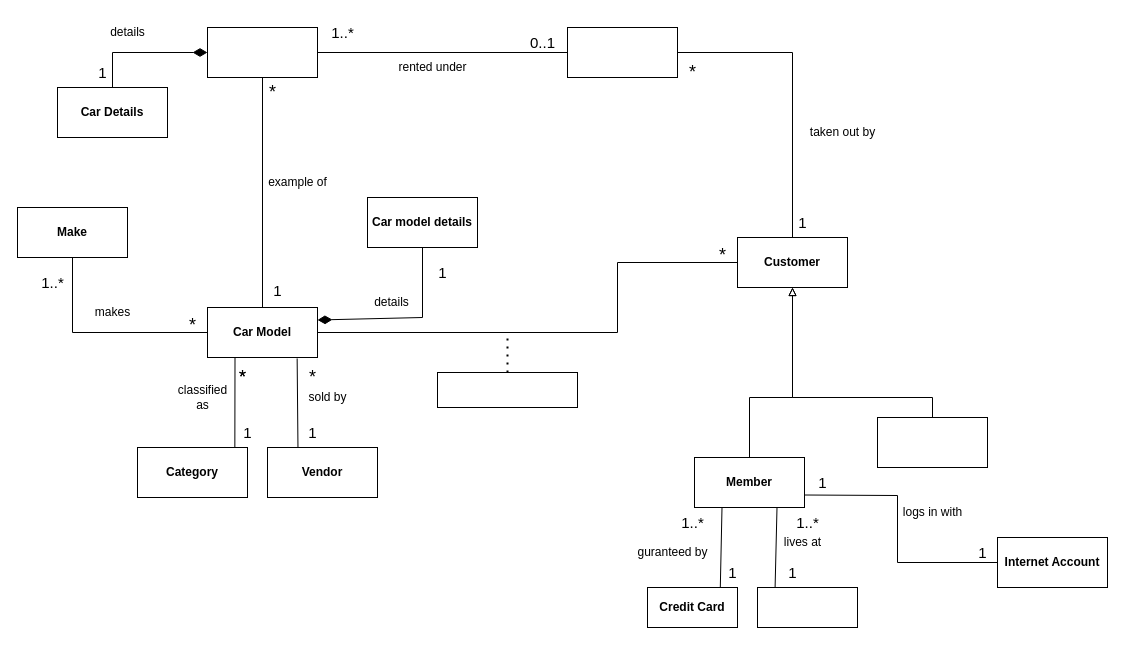
Some shapes in this 1125 by 653 pixel diagram are drawn without their labels. Each missing label, with the box of its shape:
Address: (756, 586, 858, 628)
Car: (206, 26, 318, 78)
NonMember: (876, 416, 988, 468)
Rental: (566, 26, 678, 78)
Reservation: (436, 372, 578, 408)
